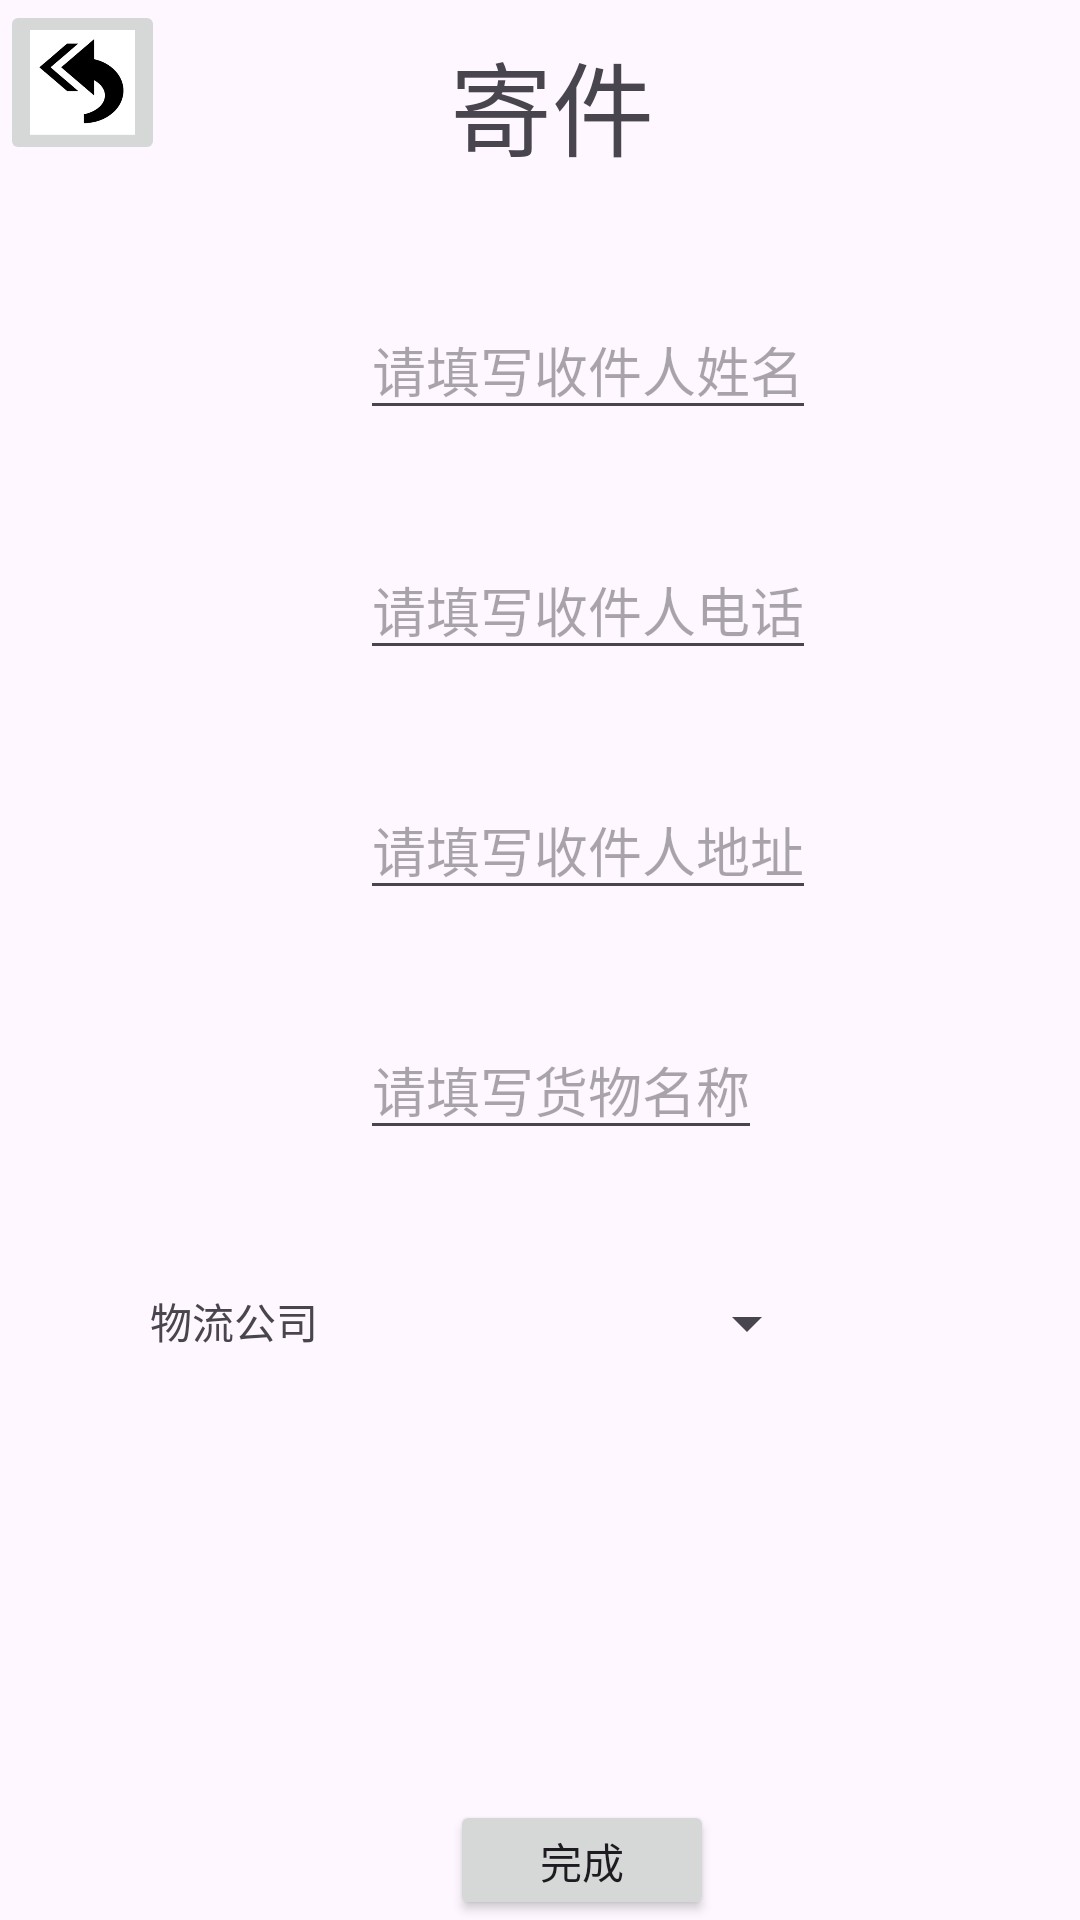

Icon click points for this 1080*1920 phone screenshot, format (x,y):
back: (82,82)
